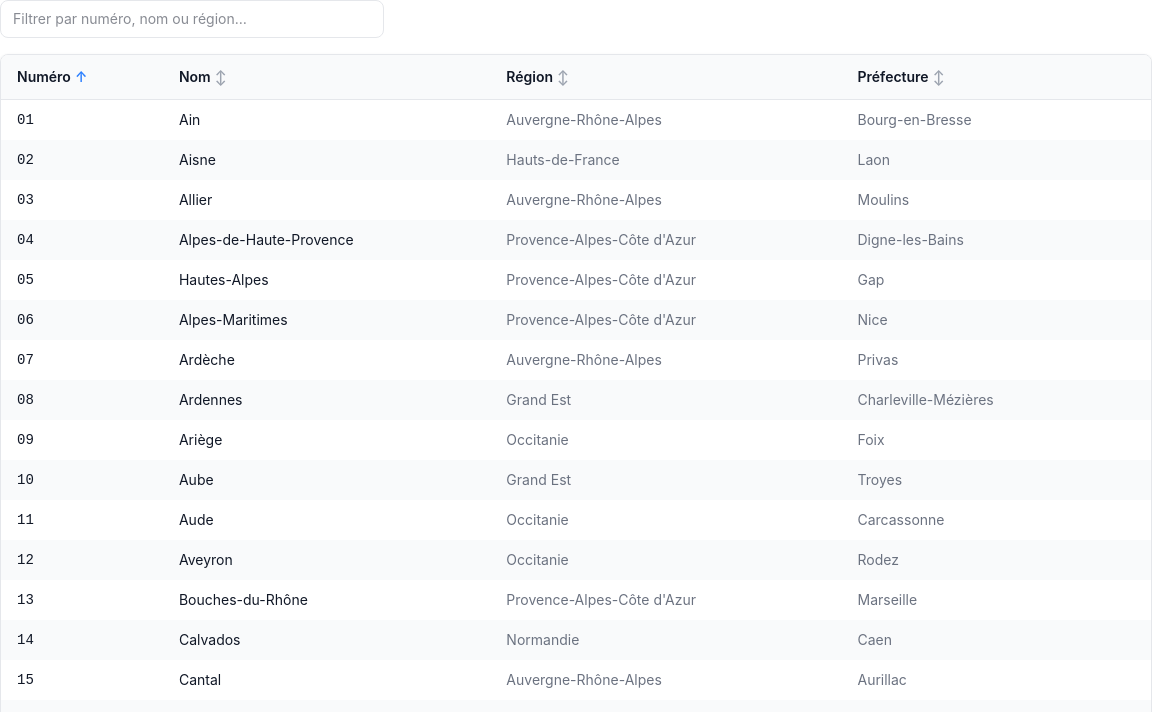
Test: TableauFlat – filtre par nom › filtre les départements par nom
Type "Finistère" into the field with placeholder "Filtrer par numéro, nom ou région…". click: (192, 19)
box: x1=0 y1=0 x2=384 y2=38
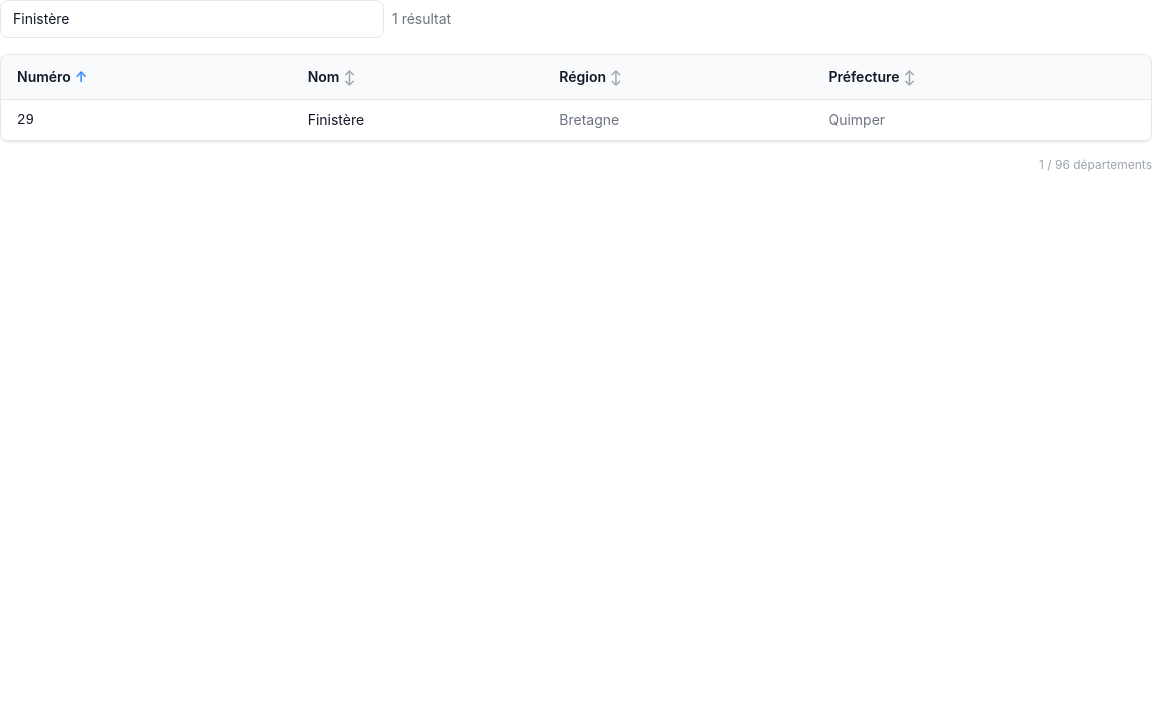
Expected: the text "Finistère" is shown, x1=292 y1=100 x2=543 y2=140
Result: the text "1 résultat" is shown at x1=392 y1=9 x2=451 y2=29
